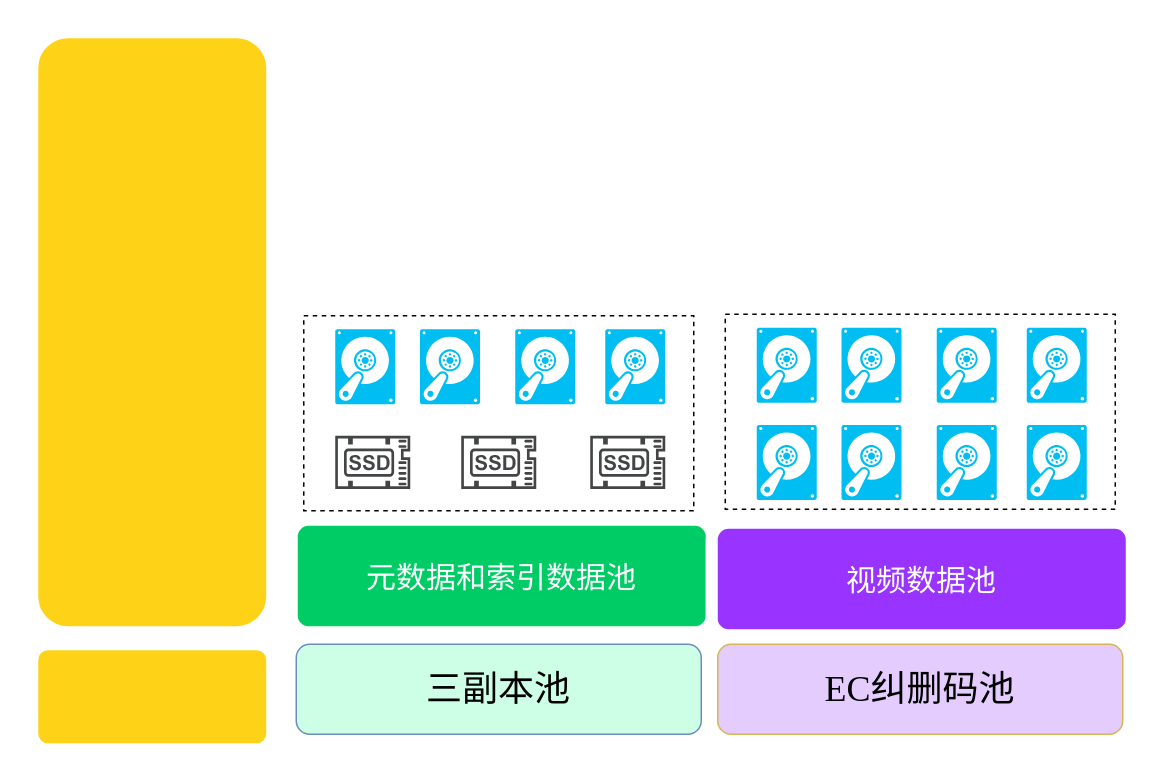
Image size: 1163x780. Some labels were removed from this diagram. Here are the shapes that lost their labels. From the top down, the centre of each, then its label:
(152,332): 存储策略
(152,696): 配置
